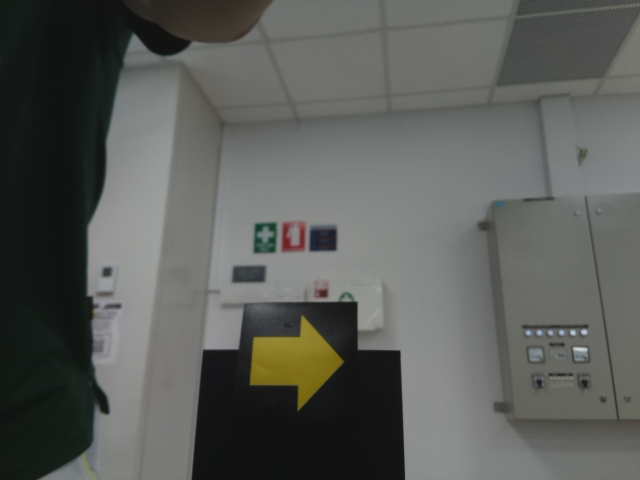right: (250, 311, 347, 424)
